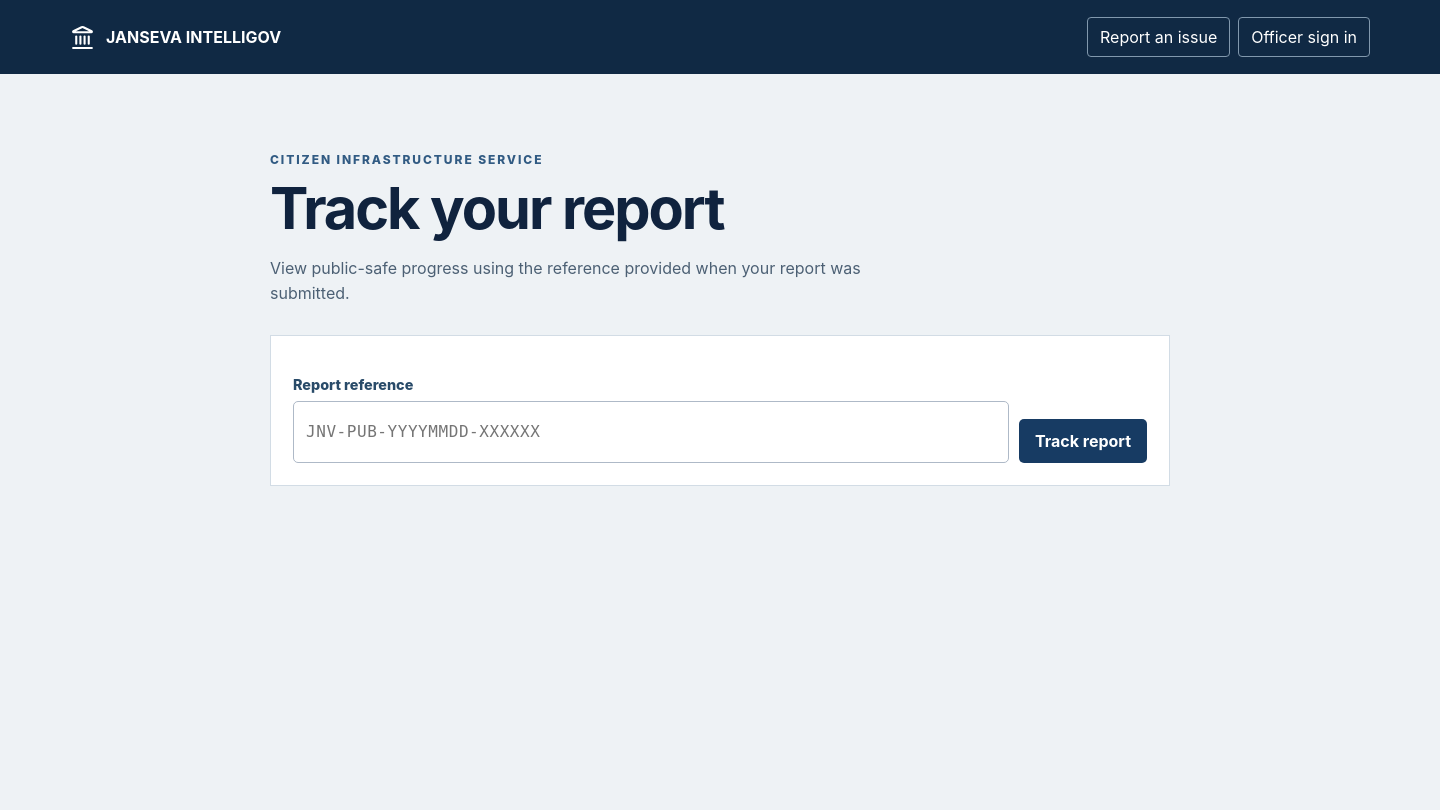
Test: citizen tracking › renders an accessible form and validates before lookup
Expected: the heading "Track your report" is shown, [270,173,724,243]
Click the button "Track report" at (1083, 441), box [1019,419,1147,463]
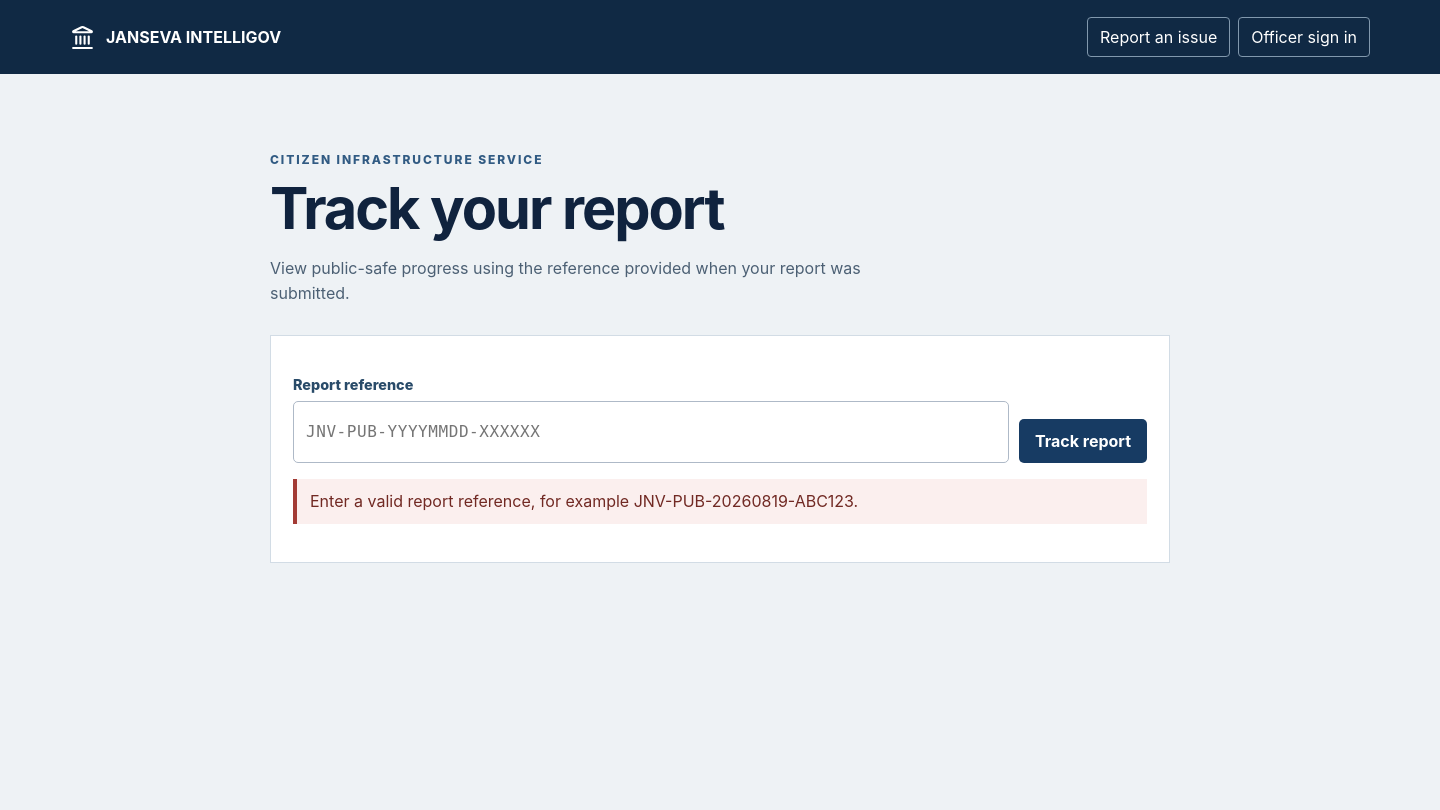
Expected: the message shows "valid report reference", [310,491,858,511]
